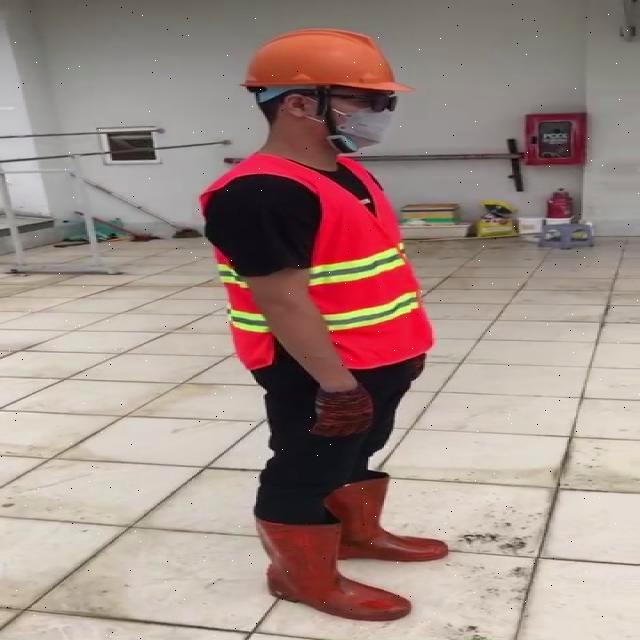Hard_hat: (234, 24, 422, 109)
Person: (175, 18, 446, 636)
Vest: (297, 152, 425, 374)
